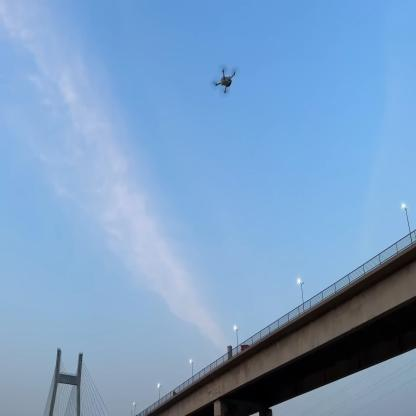drone: (209, 58, 241, 97)
